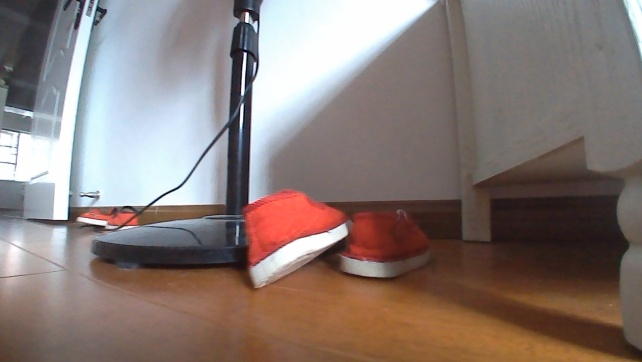chair_base: (88, 204, 252, 270)
shoe: (240, 180, 353, 293), (335, 205, 436, 281), (71, 202, 138, 230)
wire: (106, 16, 261, 233)
